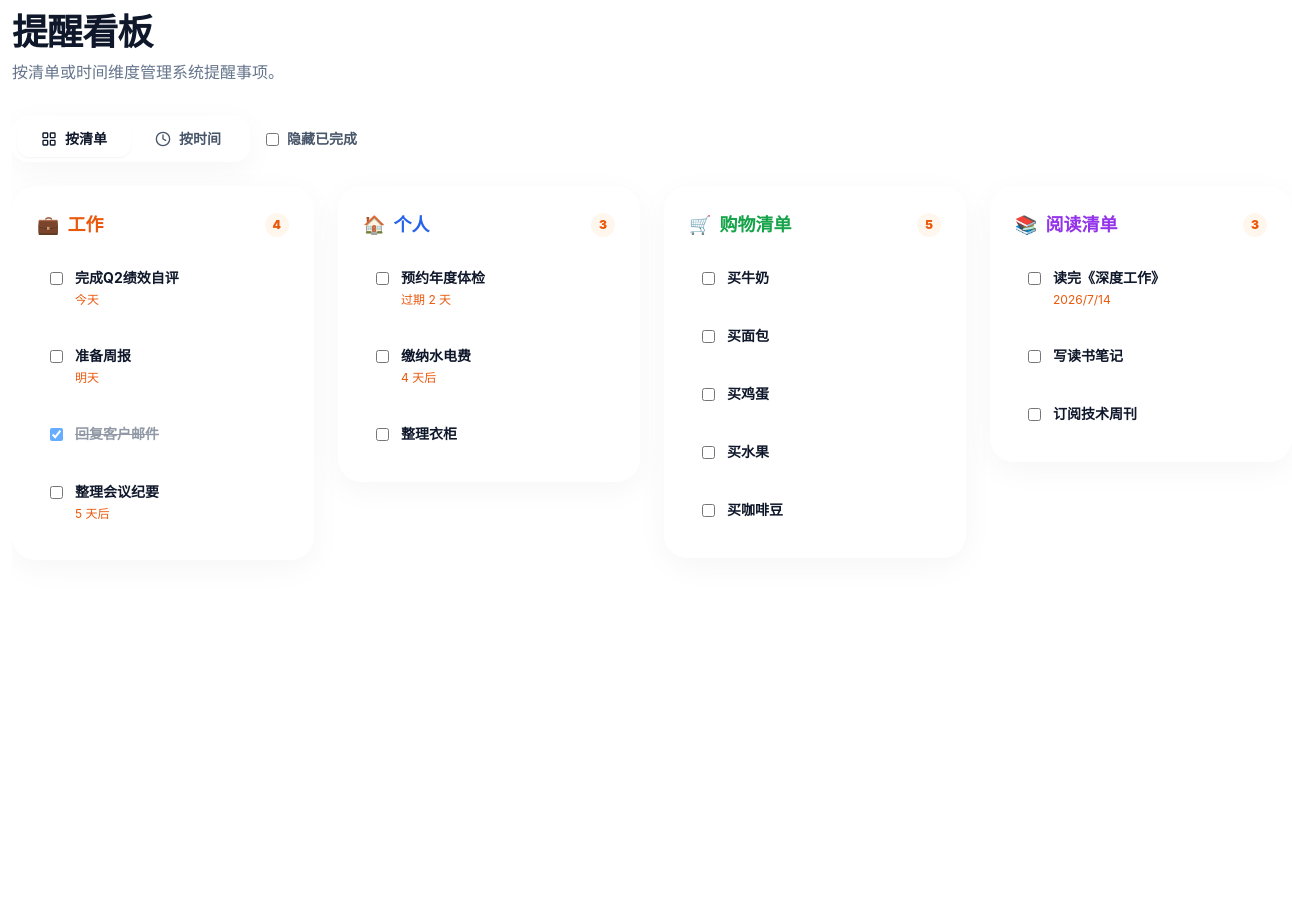
RemindersView › View Switching and Hide Completed › should switch view content when clicking tabs
The image size is (1292, 912).
Expected: the element with test id "list-panel" that starts with "完成Q2绩效自评" is shown, [12,186,314,560]
Note: 点击"按时间" Tab
Click the button "按时间": (188, 139) [131,121,245,157]
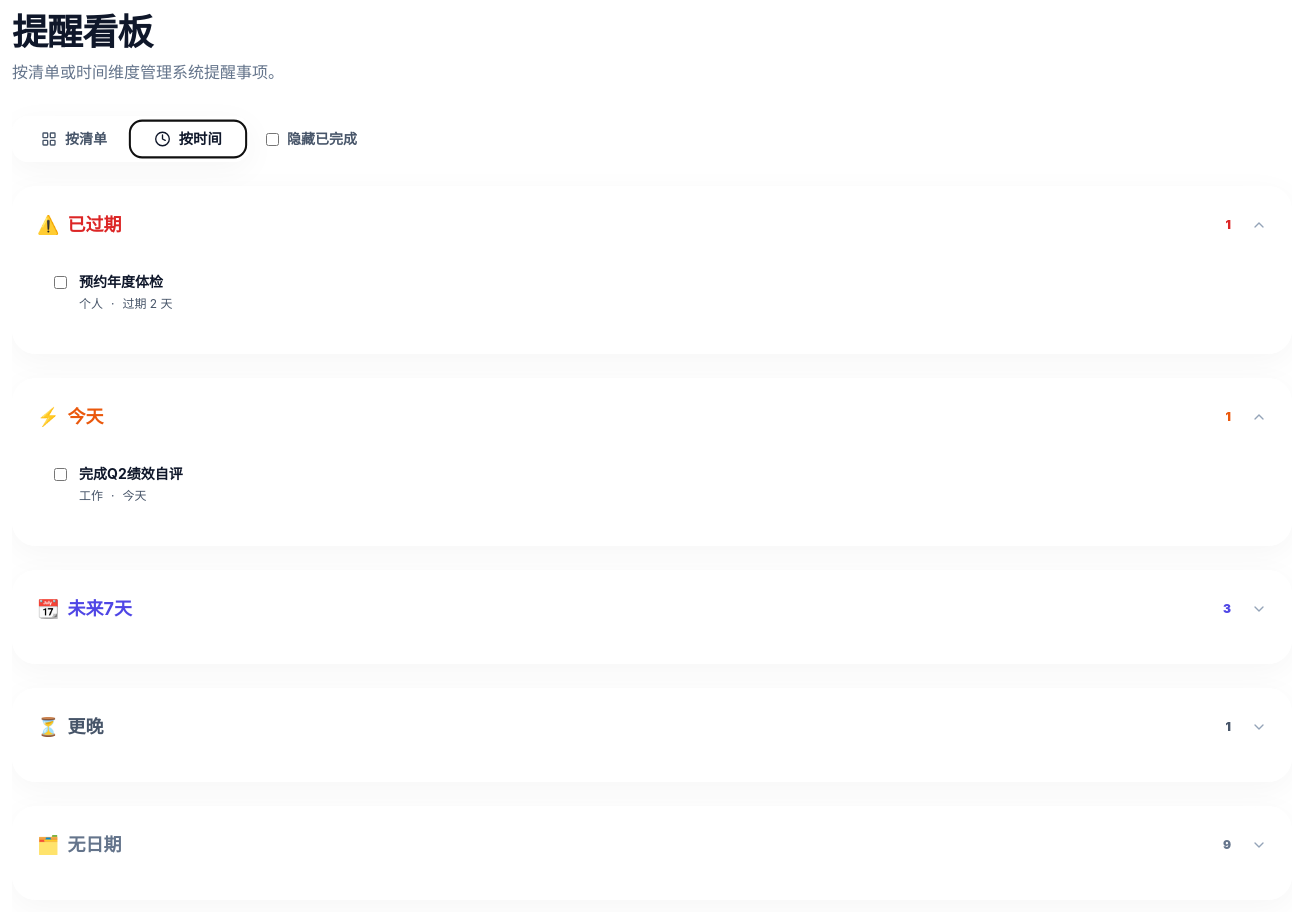
Expected: the heading "⚠️ 已过期" is shown, [37,211,122,239]
Expected: no elements with test id "list-panel" are shown
Expected: the element with test id "time-group" showing "⚠️ 已过期 1 预约年度体检 个人 · 过期 2 天" is shown, [12,186,1291,354]
Note: 点击"按清单" Tab
Click the button "按清单": (74, 139) [17,121,131,157]
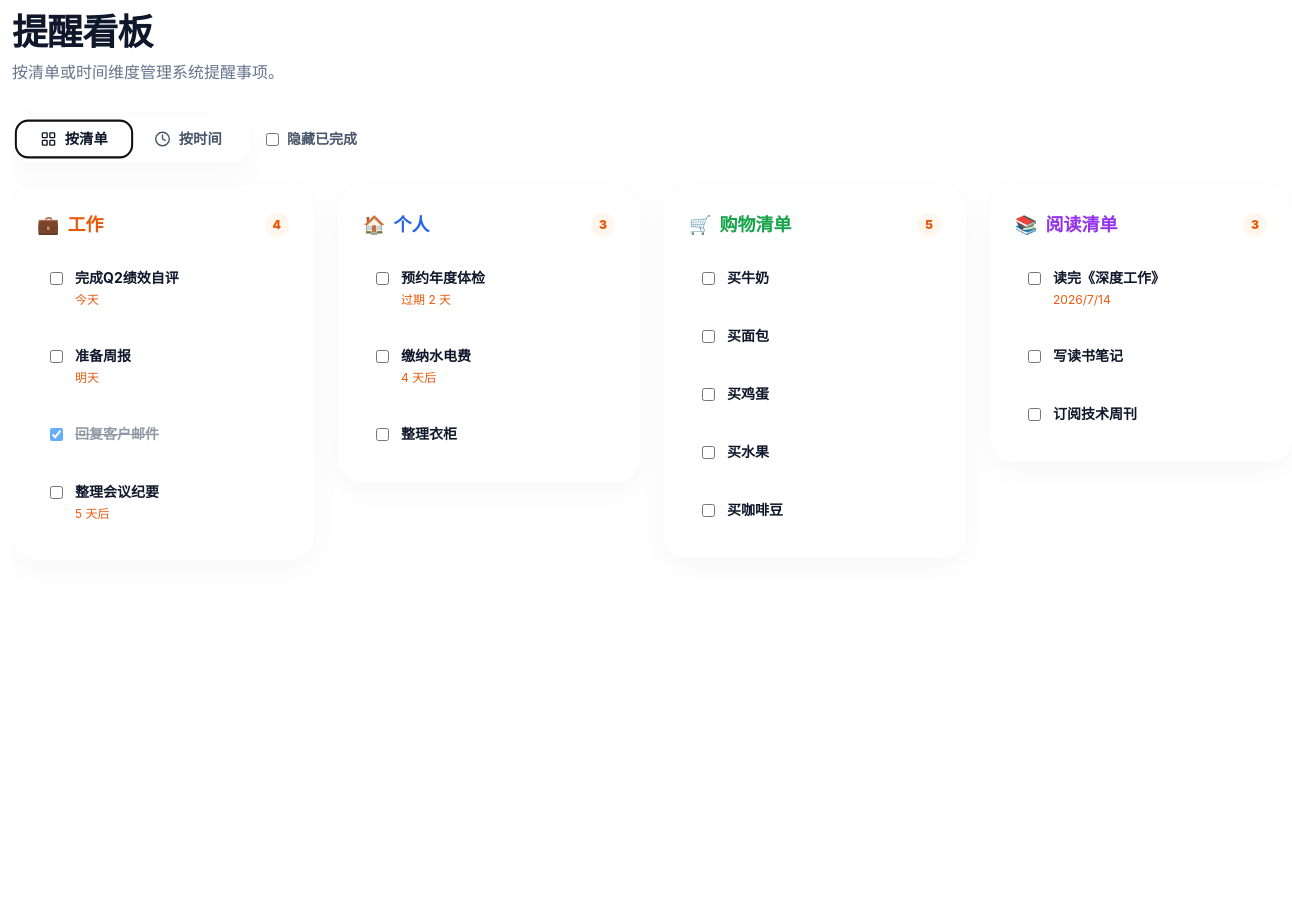
Expected: the element with test id "list-panel" that starts with "完成Q2绩效自评" is shown, [12,186,314,560]
Expected: no elements with test id "time-group" are shown
